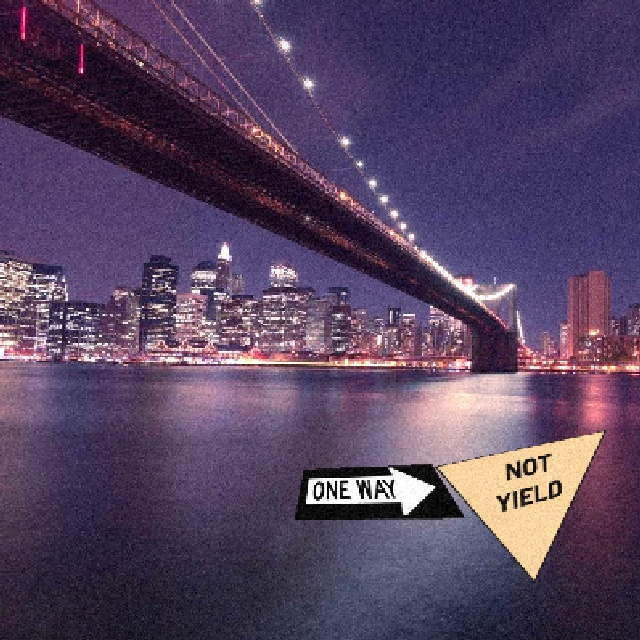NOT_YIELD: (433, 428, 605, 581)
ONE_WAY_ right: (292, 462, 464, 519)
